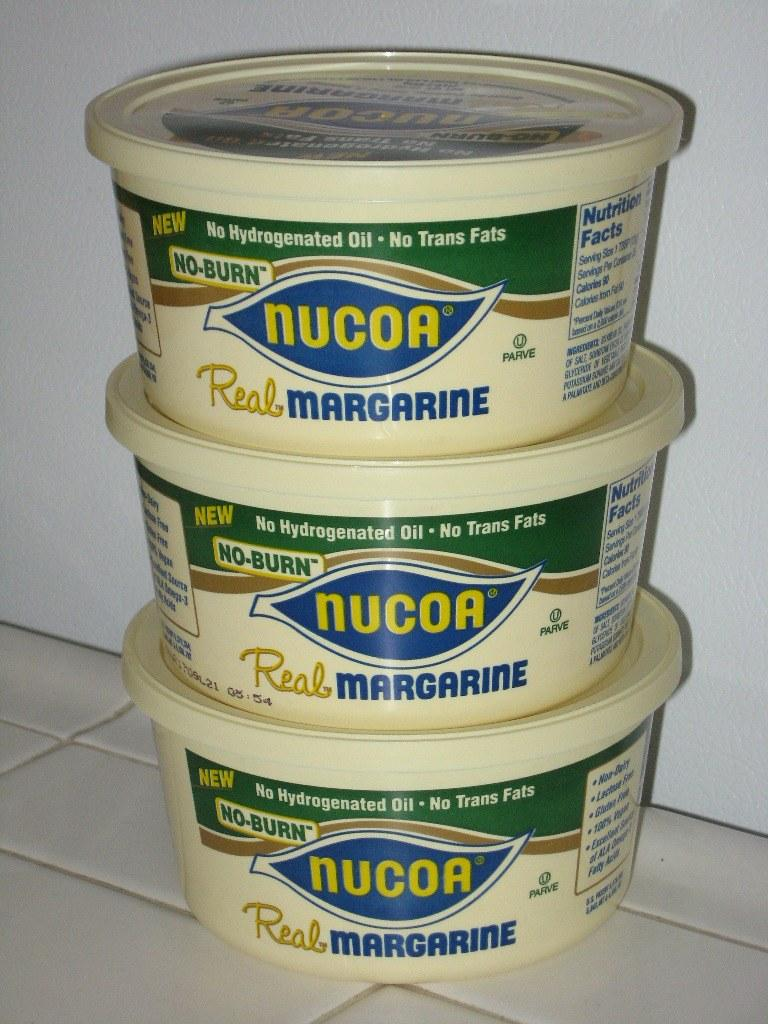plastic: (86, 52, 692, 834)
